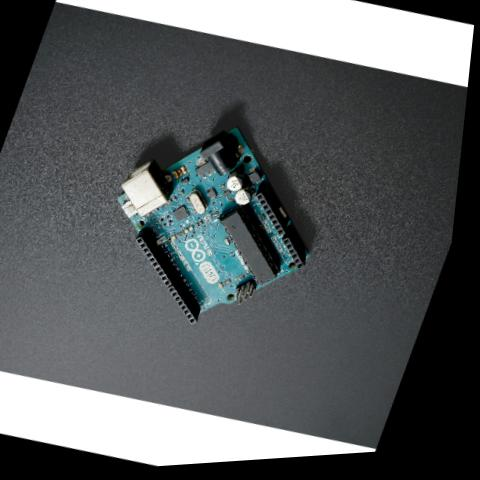Arduino-Uno: (79, 96, 358, 358)
